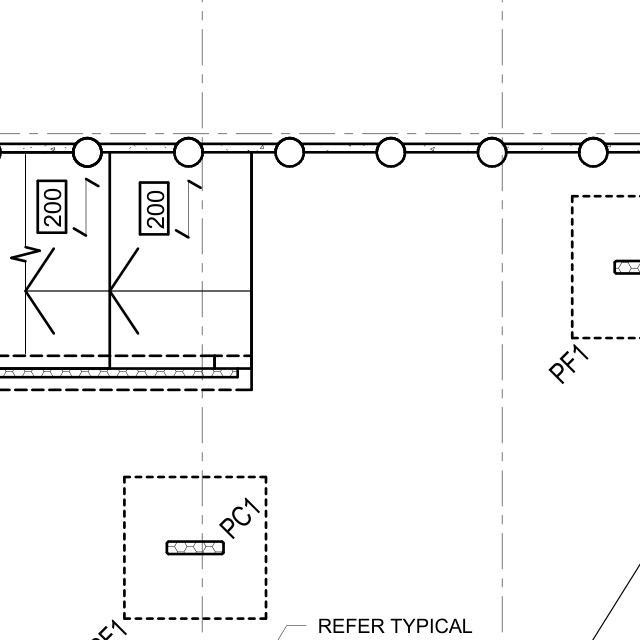PC1: (211, 486, 262, 532)
PF1: (516, 327, 601, 394)
